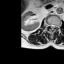CCS_normal: (51, 22, 53, 33)
LFS_normal: (55, 22, 57, 29)
LLS_normal: (53, 22, 55, 29)
RFS_normal: (48, 22, 49, 28)
RLS_normal: (49, 22, 51, 29)
